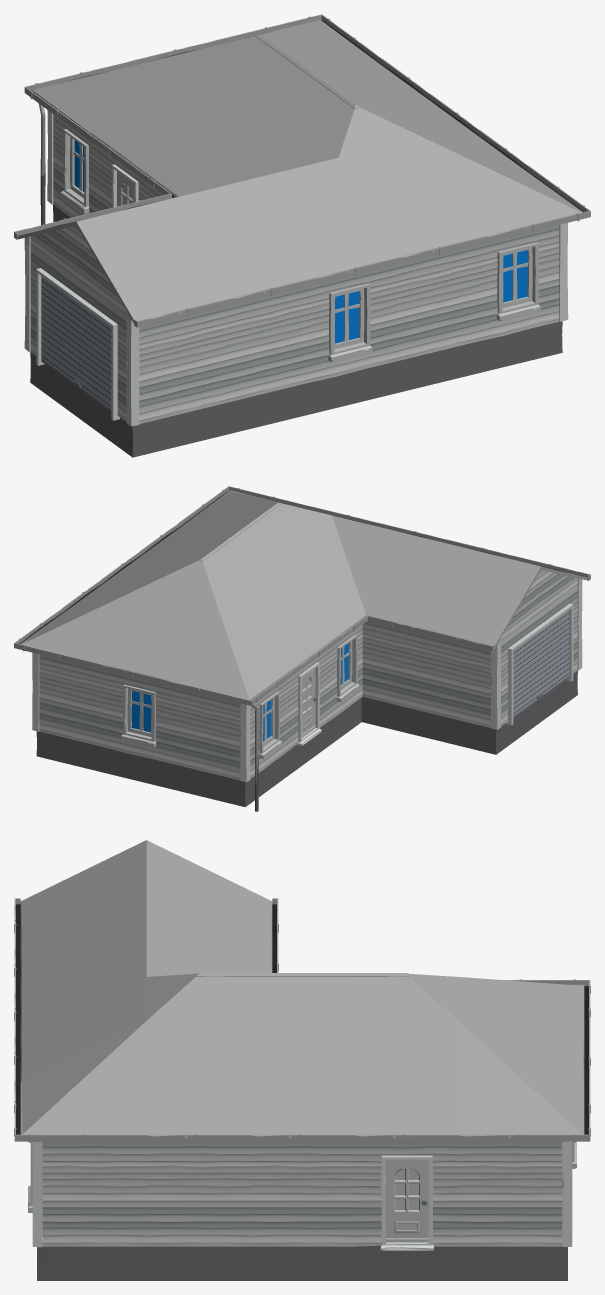
File: SM_Bld_House_Preset_04.fbx
The picture shows the model from 3 angles, top to bottom: view 1: azimuth 30°, elevation 25°; view 2: azimuth 150°, elevation 25°; view 3: azimuth 270°, elevation 25°; orthographic projection. The views are drawn at different scales.
Parts seen in each view (by area): view 1: SM_Bld_House_Preset_04; view 2: SM_Bld_House_Preset_04; view 3: SM_Bld_House_Preset_04.
Part boxes in pixels (left/top/right/bottom): SM_Bld_House_Preset_04: left=14, top=14, right=590, bottom=457; SM_Bld_House_Preset_04: left=14, top=486, right=590, bottom=811; SM_Bld_House_Preset_04: left=14, top=840, right=590, bottom=1280.
Bounding box in the file's own units: 1352 × 646 × 1387.
